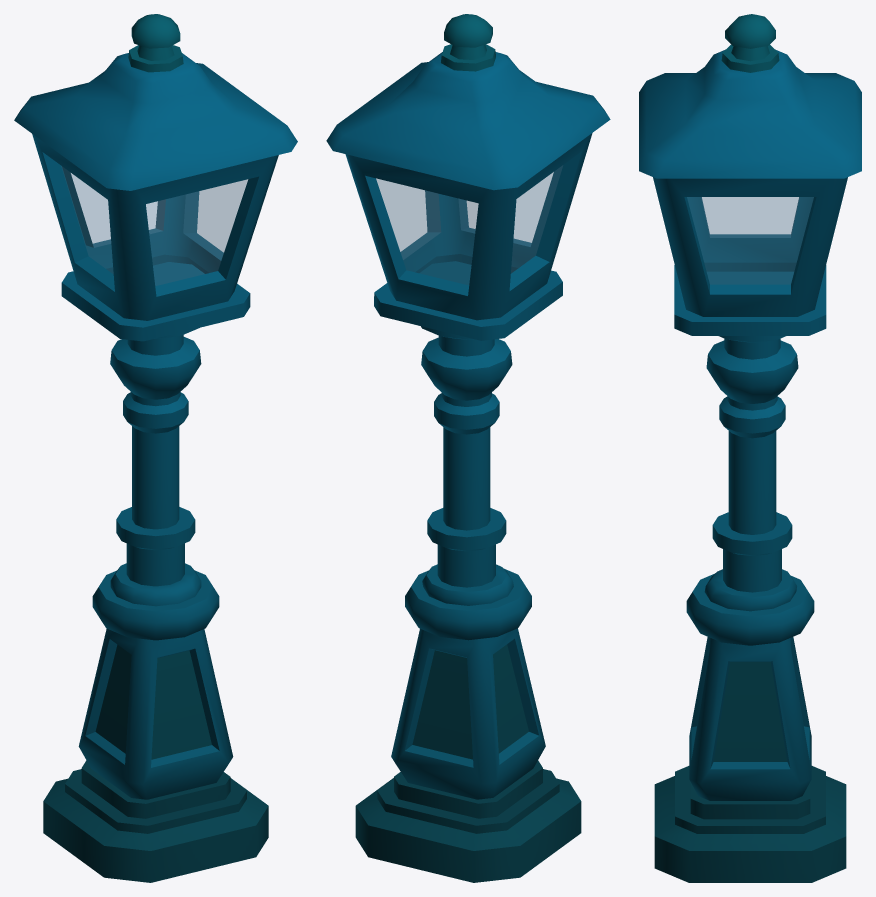
The model's file is Street_Light_01_C04.fbx.
The picture shows the model from 3 angles, left to right: view 1: azimuth 30°, elevation 25°; view 2: azimuth 150°, elevation 25°; view 3: azimuth 270°, elevation 25°; orthographic projection.
Parts seen in each view (by area): view 1: Street_Light_01_C04; view 2: Street_Light_01_C04; view 3: Street_Light_01_C04.
Part boxes in pixels (x1,y1,x2,y2): Street_Light_01_C04: (14, 14, 297, 882); Street_Light_01_C04: (326, 14, 610, 882); Street_Light_01_C04: (639, 14, 861, 882).
Size of the model in its own units: 80.91 by 331 by 80.91.
